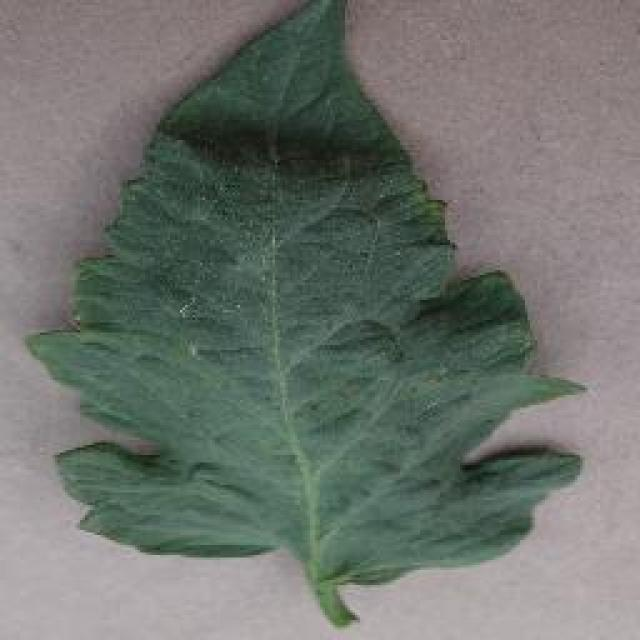Tom_Bacterial_spot: (359, 151, 460, 249)
